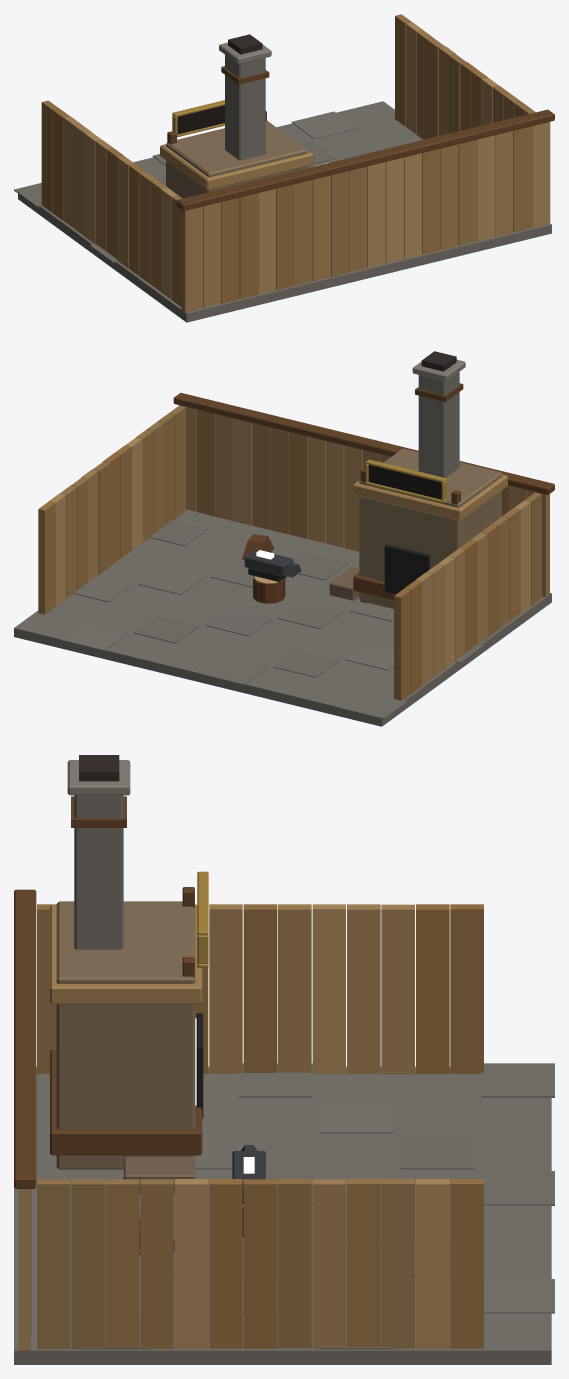
File: SkyForgeCourt.glb
The picture shows the model from 3 angles, top to bottom: view 1: azimuth 30°, elevation 25°; view 2: azimuth 150°, elevation 25°; view 3: azimuth 270°, elevation 25°; orthographic projection. The views are drawn at different scales.
Visible parts, largest first — view 1: Body, Sign, Smokestack; view 2: Body, Sign, StarfallForge, Smokestack; view 3: Body, Smokestack, StarfallForge.
Boxes of the visible parts, x1,y1,x2,y2 form: Body: (14,14,554,322); Sign: (177,105,224,134); Smokestack: (228,34,262,54); Body: (14,359,554,726); Sign: (368,465,441,499); StarfallForge: (244,549,301,581); Smokestack: (421,351,456,371); Body: (14,760,554,1364); Smokestack: (79,755,119,781); StarfallForge: (232,1145,265,1204).
Size of what is drawn, in the model's own units: 30.6 by 18.9 by 24.15.
